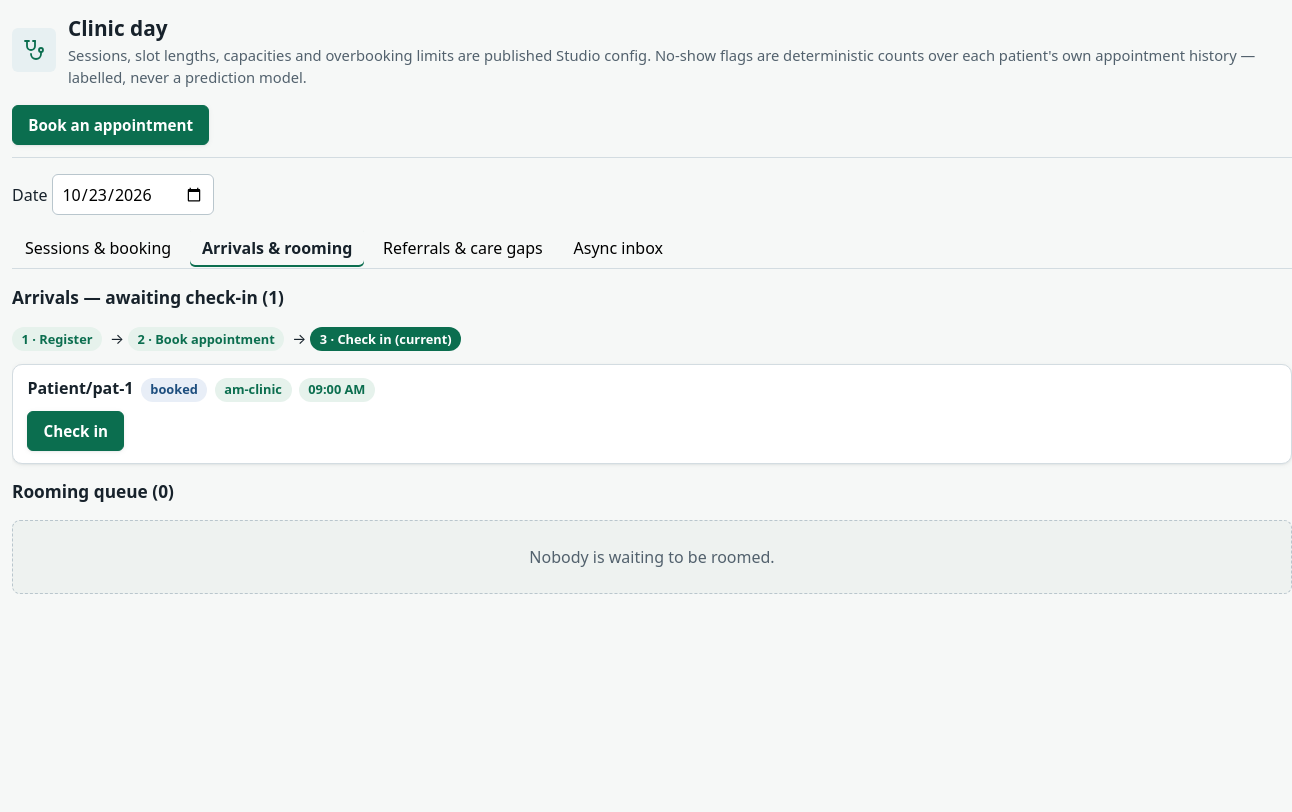
Test: ClinicDayPage tabs (P-7 + landing = your queue) › lands on Arrivals & rooming (the check-in queue) by default
Expected: the heading "Arrivals — awaiting check-in (1)" is shown, [12,286,284,309]
# Sessions are one tab away, with the booking form intact.
Click the tab "Sessions & booking" at (98, 248), box [12,228,184,268]
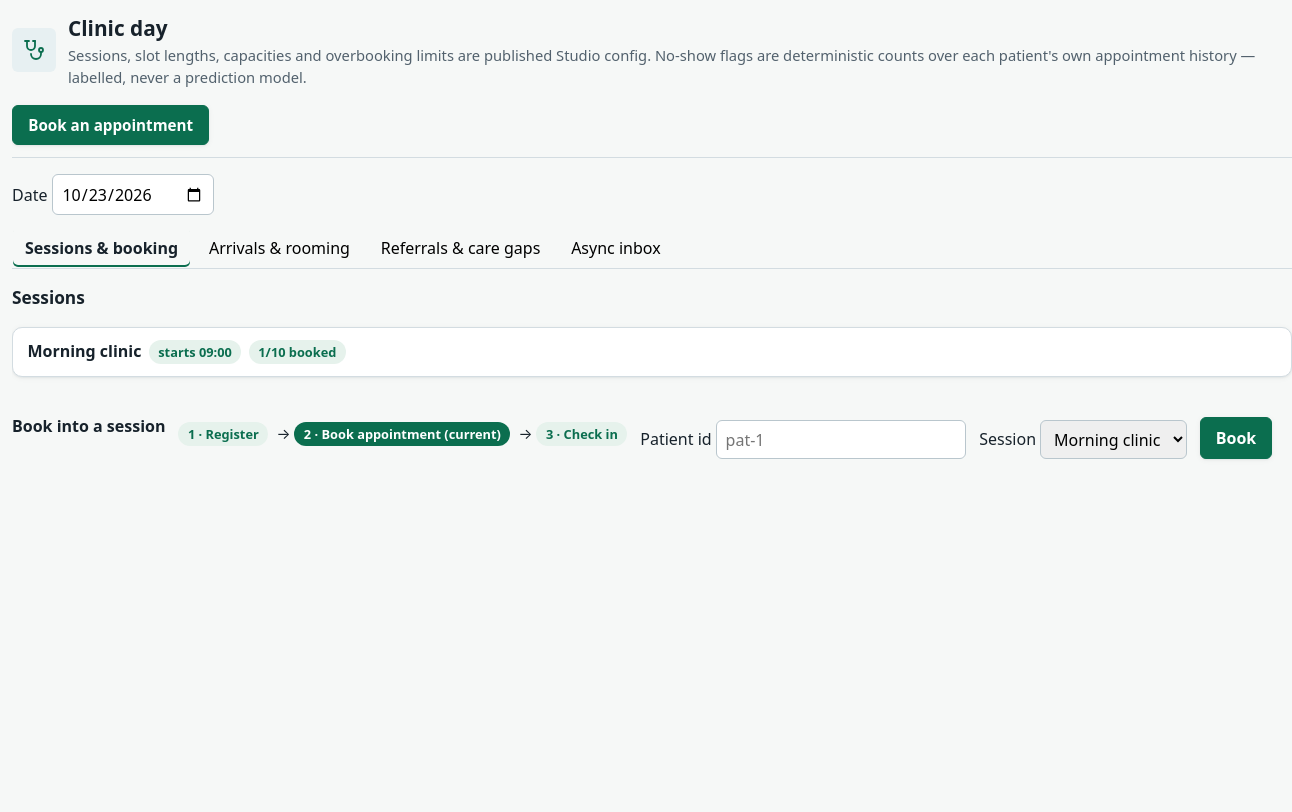
Now the heading "Book into a session" is shown, box [12,414,166,438]
Now the heading "Sessions" is shown, box [12,286,85,309]
Now the dropdown named "Booking session" is shown, box [1040,420,1187,459]
